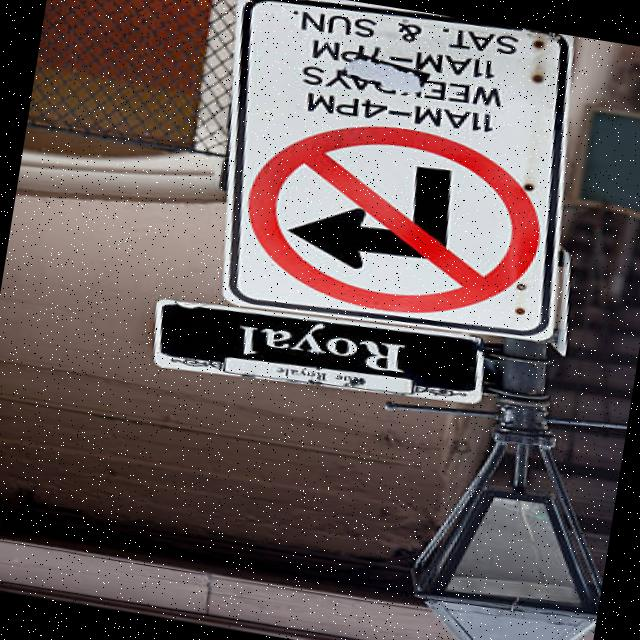do_not_turn_right: (228, 101, 559, 333)
